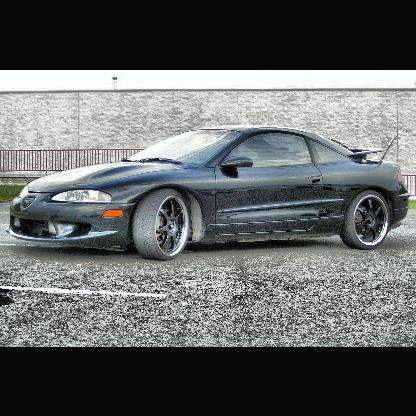Eagle Talon Hatchback 1998: (5, 126, 413, 263)
